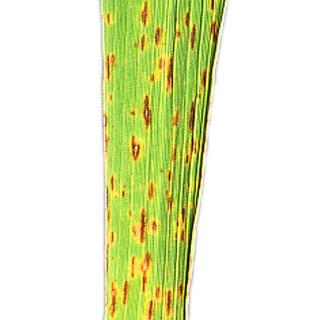Bercak-Cokelat-Sempit: (128, 206, 158, 243), (130, 255, 162, 289), (172, 203, 196, 245), (149, 56, 178, 90), (133, 95, 155, 133), (108, 280, 129, 316), (148, 293, 175, 320), (186, 96, 202, 130), (102, 50, 120, 80), (134, 4, 157, 27), (187, 134, 200, 171), (125, 140, 144, 161), (103, 188, 114, 224), (194, 67, 213, 87), (153, 27, 167, 52), (102, 10, 119, 30), (134, 35, 149, 56), (190, 23, 201, 50), (168, 112, 183, 130), (142, 183, 156, 202), (209, 20, 222, 40), (164, 193, 176, 213), (103, 134, 115, 152), (108, 170, 117, 192), (208, 0, 222, 13), (162, 171, 176, 184), (169, 145, 181, 160), (182, 12, 192, 29), (104, 111, 112, 129), (106, 92, 116, 102), (174, 30, 181, 40)
